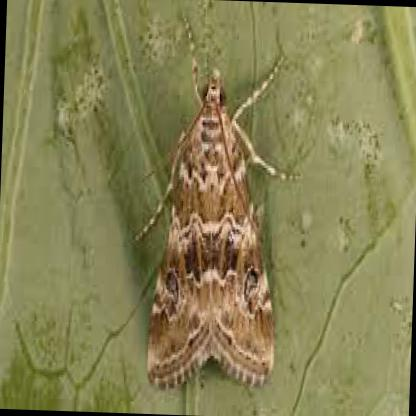Hellula undalis: (124, 43, 317, 392)
